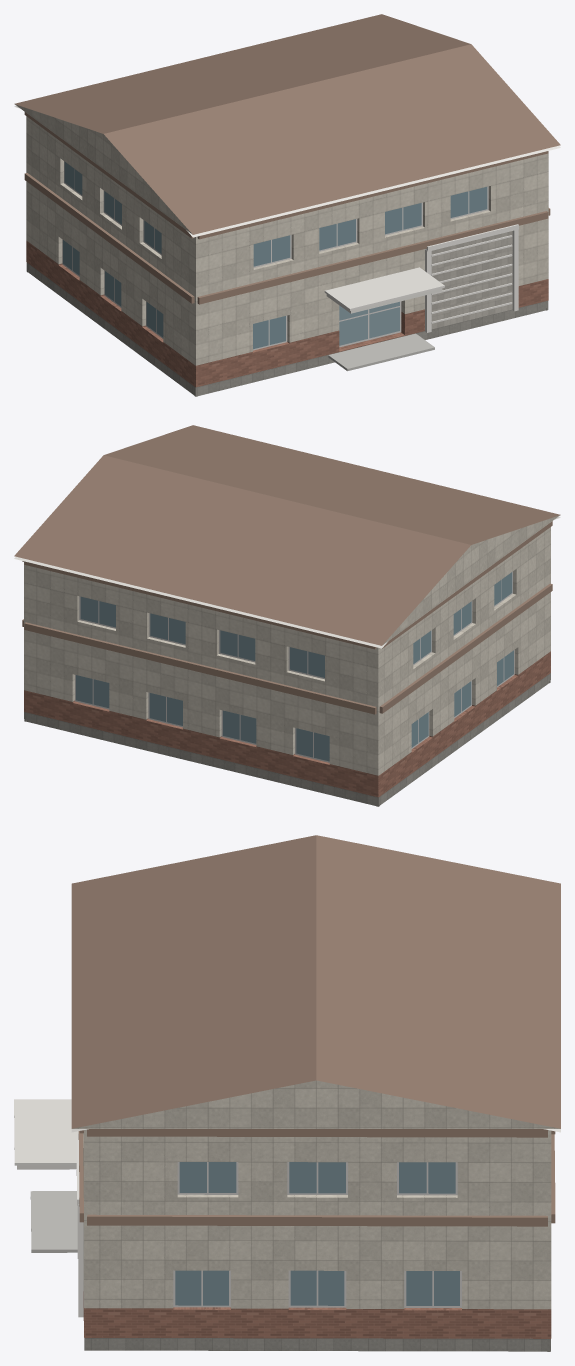
The picture shows the model from 3 angles, top to bottom: view 1: azimuth 30°, elevation 25°; view 2: azimuth 150°, elevation 25°; view 3: azimuth 270°, elevation 25°; orthographic projection. The views are drawn at different scales.
Visible parts, largest first — view 1: stage__roof, stage__panelwall, stage__brick, stage__glass, stage__greentrim, stage__shutter, stage__cap, stage__plinth, stage__trim, stage__threshold-main, stage__doorglass, stage__frame (+1 smaller); view 2: stage__roof, stage__panelwall, stage__brick, stage__glass, stage__greentrim, stage__plinth, stage__frame, stage__foundation, stage__cap; view 3: stage__roof, stage__panelwall, stage__brick, stage__glass, stage__greentrim, stage__plinth, stage__cap, stage__threshold-main, stage__frame, stage__foundation, stage__trim.
Part boxes in pixels (<box>): stage__roof: <box>14,14,560,234</box>; stage__panelwall: <box>14,104,548,365</box>; stage__brick: <box>26,240,548,387</box>; stage__glass: <box>63,162,487,349</box>; stage__greentrim: <box>24,112,550,304</box>; stage__shutter: <box>431,231,512,329</box>; stage__cap: <box>14,106,560,310</box>; stage__plinth: <box>26,262,548,394</box>; stage__trim: <box>425,224,518,332</box>; stage__threshold-main: <box>328,333,434,371</box>; stage__doorglass: <box>339,301,399,345</box>; stage__frame: <box>62,161,488,350</box>; stage__roof: <box>14,425,560,645</box>; stage__panelwall: <box>24,515,560,775</box>; stage__brick: <box>24,651,550,797</box>; stage__glass: <box>76,572,513,761</box>; stage__greentrim: <box>22,521,552,714</box>; stage__plinth: <box>24,673,550,804</box>; stage__frame: <box>75,571,514,762</box>; stage__foundation: <box>24,674,550,806</box>; stage__cap: <box>14,517,560,648</box>; stage__roof: <box>71,835,560,1128</box>; stage__panelwall: <box>72,1080,560,1309</box>; stage__brick: <box>83,1291,551,1338</box>; stage__glass: <box>175,1162,459,1305</box>; stage__greentrim: <box>78,1129,555,1226</box>; stage__plinth: <box>84,1338,550,1348</box>; stage__cap: <box>14,1099,560,1165</box>; stage__threshold-main: <box>30,1191,77,1252</box>; stage__frame: <box>173,1162,461,1307</box>; stage__foundation: <box>84,1339,550,1351</box>; stage__trim: <box>76,1138,83,1317</box>.
Bounding box in the file's own units: 20.1 × 10.53 × 18.94.
15 materials, 5 textured.
